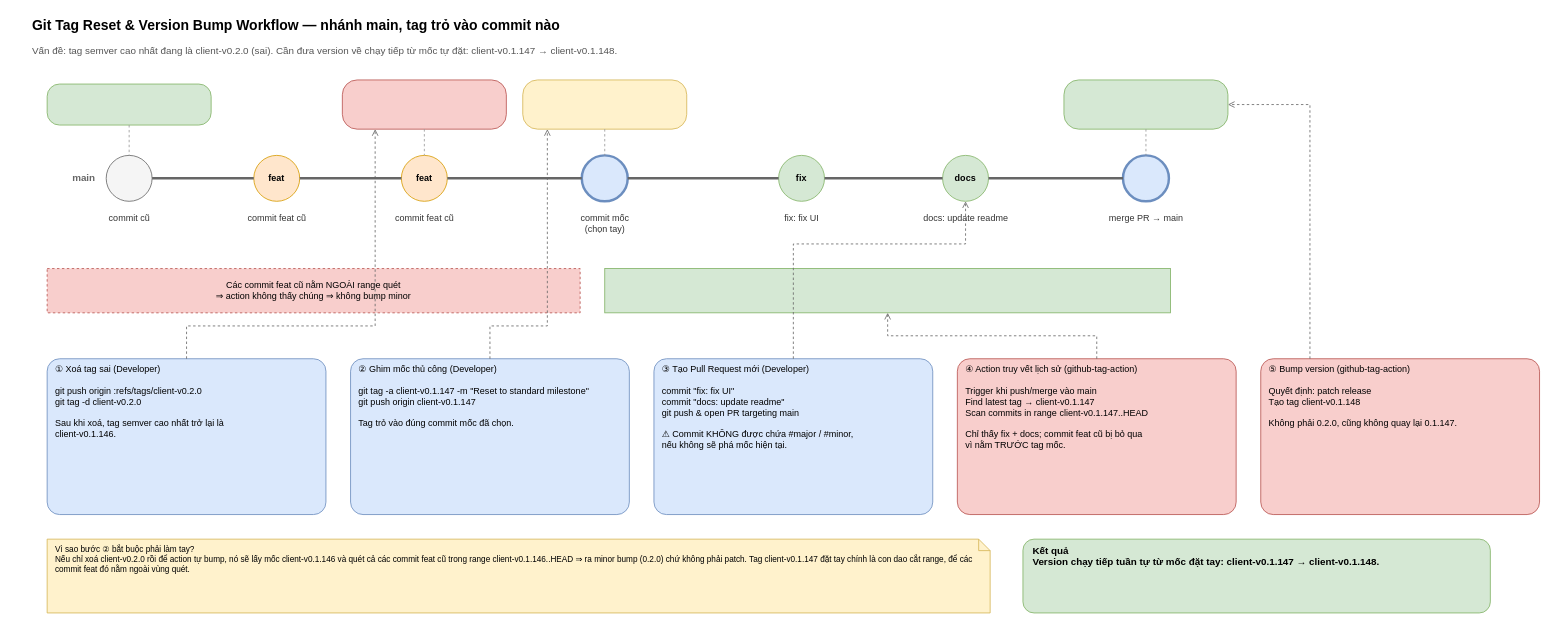
This 1554x627 diagram has some shape labels left out. The box of each missing label's shape, as (x1, y1, x2, y2) in pixels:
client-v0.1.146: (46, 83, 211, 125)
client-v0.1.147 ① tạo tay ở bước ②: (522, 79, 687, 129)
client-v0.1.148 do action tạo ở bước ⑤: (1063, 79, 1228, 129)
client-v0.2.0 ✗ XOÁ ở bước ①: (342, 79, 506, 129)
HEAD: (1121, 154, 1170, 202)
Range action quét: client-v0.1.147..HEAD ⇒ chỉ thấy fix + docs ⇒ patch bump: (604, 268, 1171, 313)
